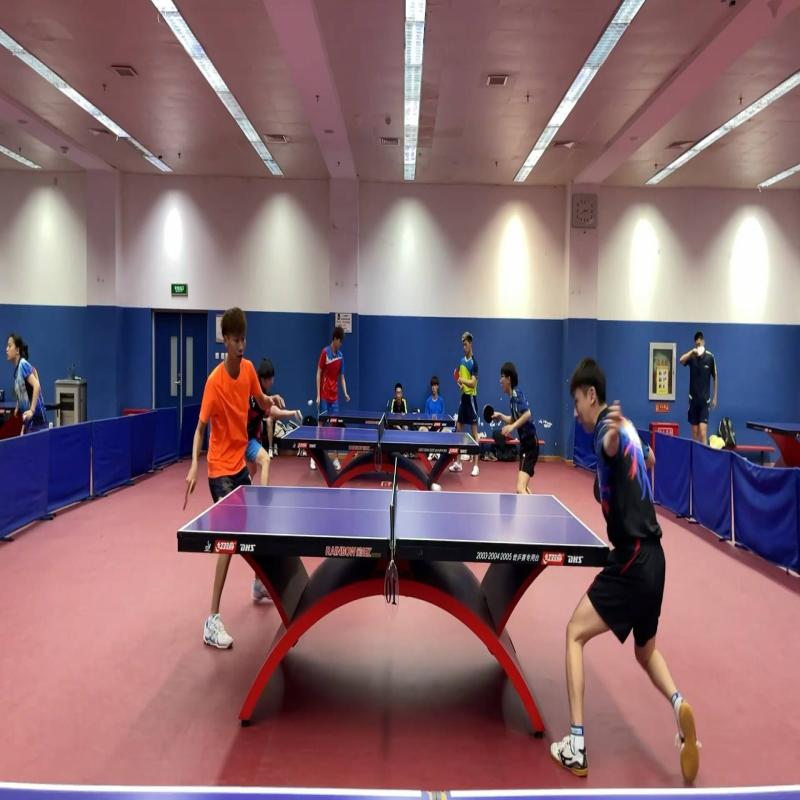bats: (170, 470, 202, 516)
